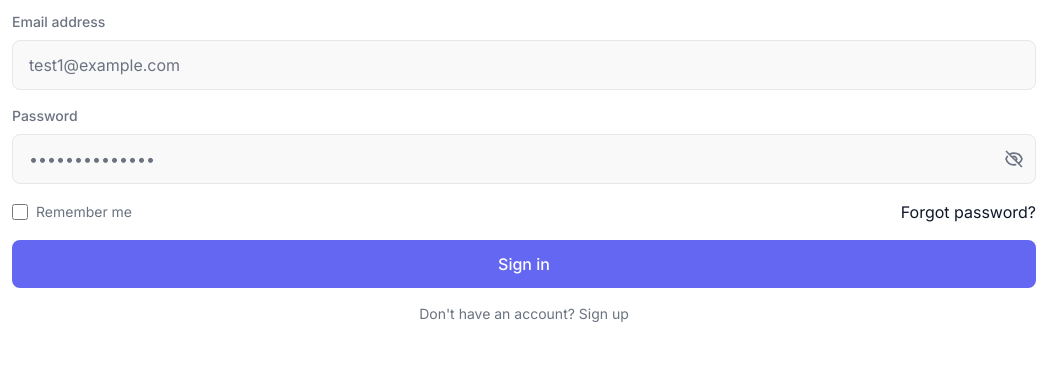
it: LoginForm › should show an email format error when an invalid email is entered
Type "not-an-email" into the field labelled "Email address" at (524, 65), box [12,40,1036,90]
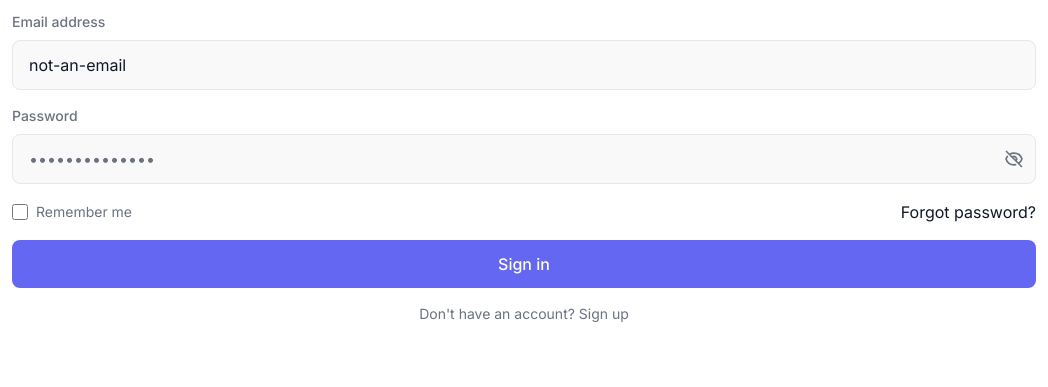
Submit the form "Sign in"
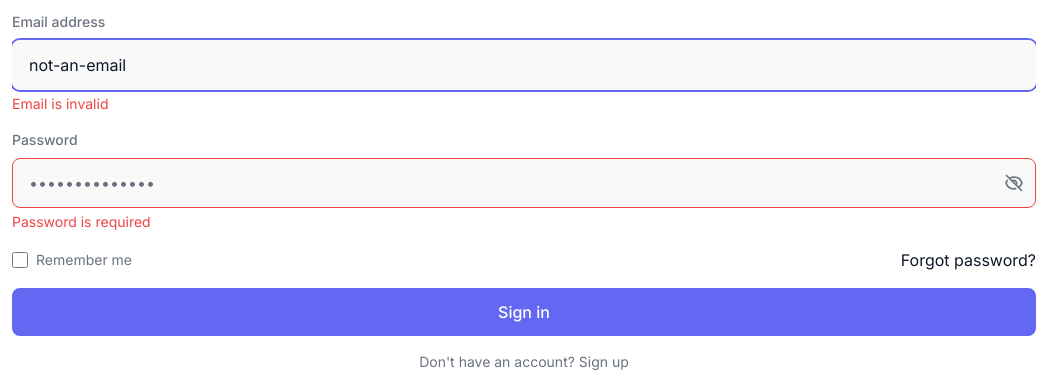
Expected: the text "Email is invalid" is shown, [12,95,108,112]
